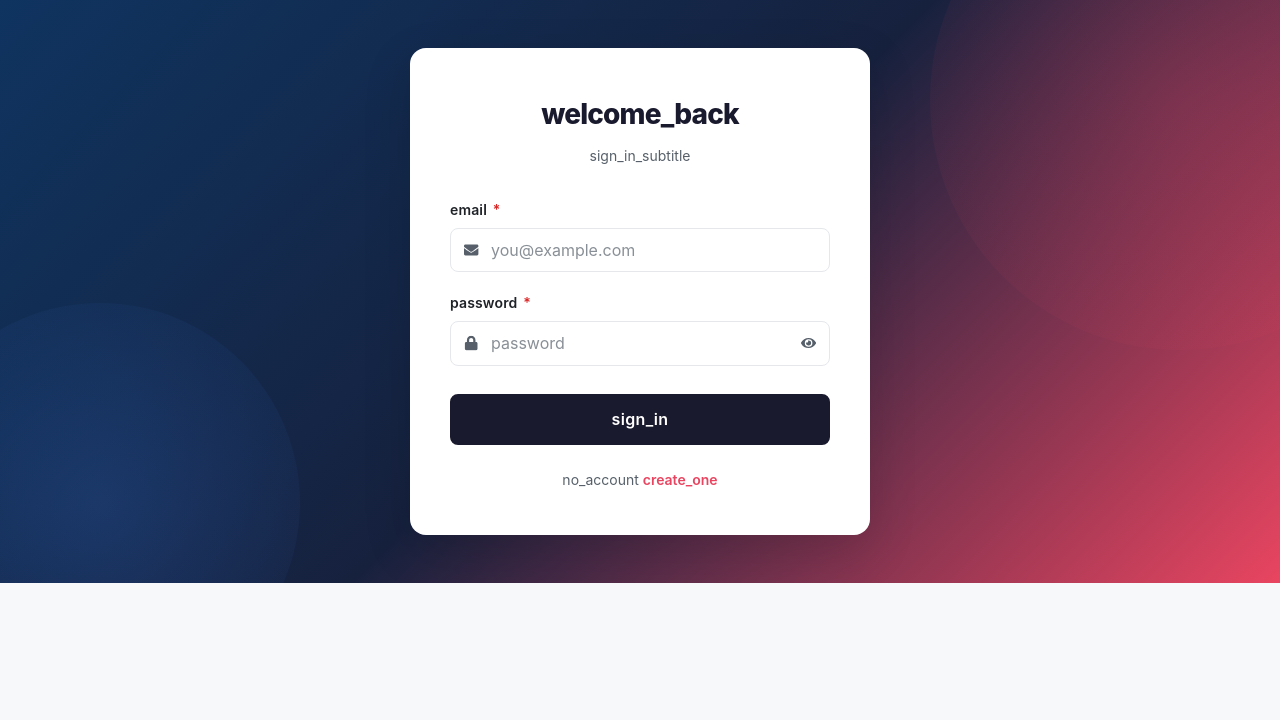
Test: Login page › field validation › shows email_invalid error for malformed email
In the field labelled "email *": (640, 250) [450,228,830,272], type "not-an-email"
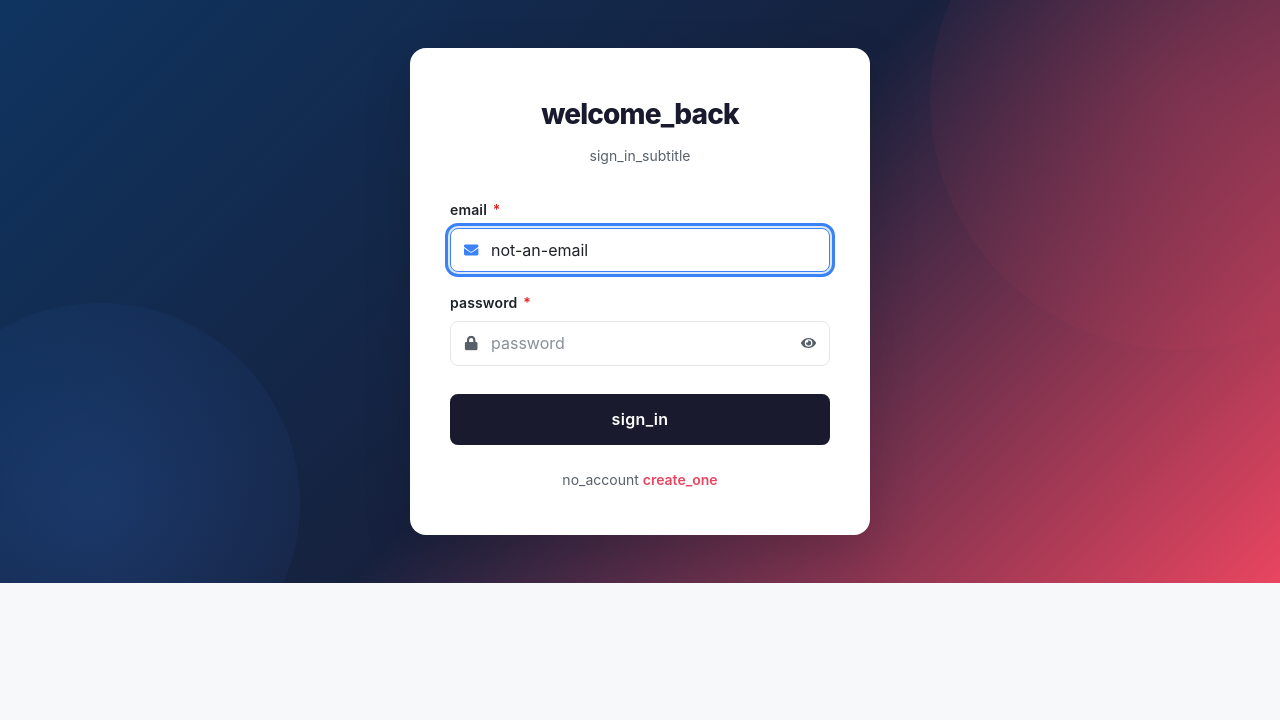
Press Tab
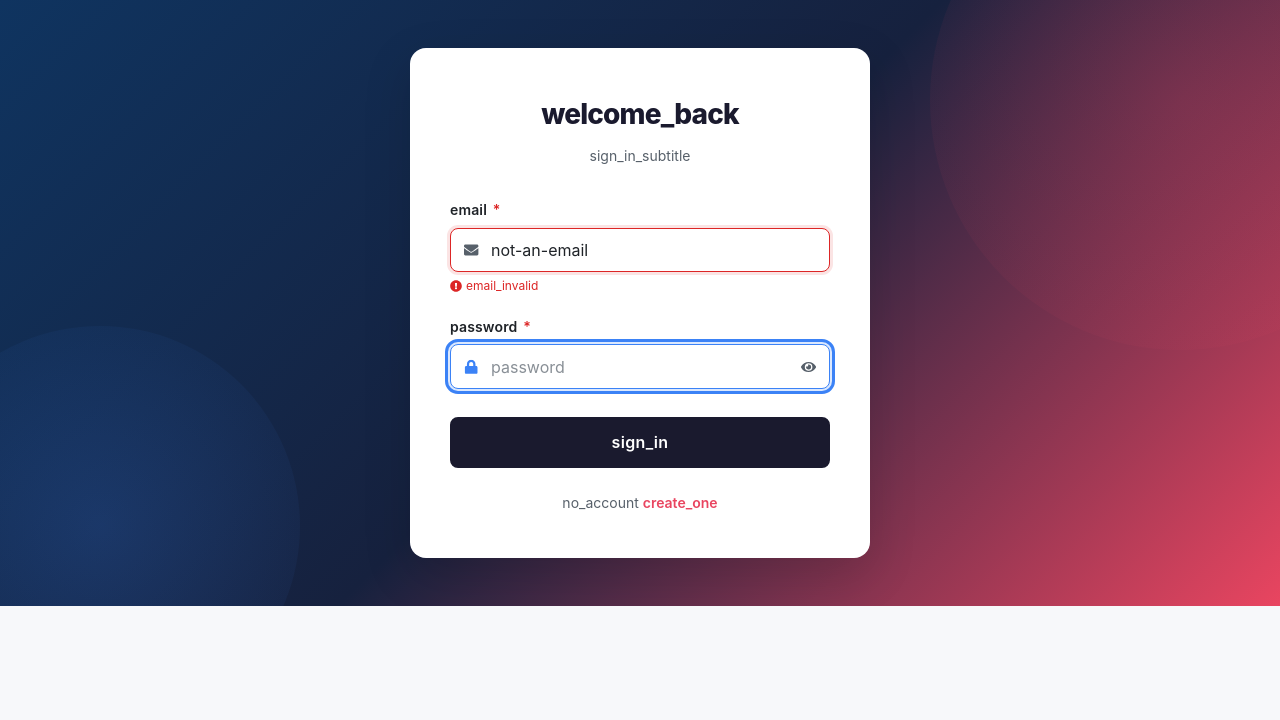
Result: the message "email_invalid" is shown at [450,278,538,293]
